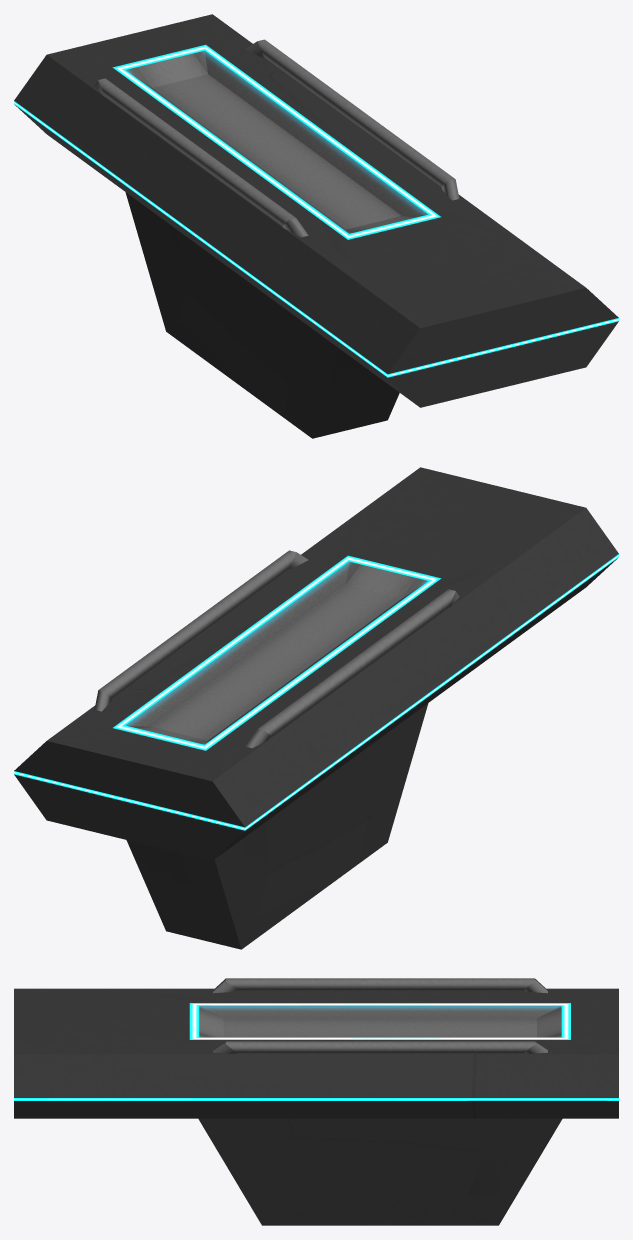
File: BowlingRack.fbx
3 views of the same model, one above another, from view 1: azimuth 30°, elevation 25°; view 2: azimuth 150°, elevation 25°; view 3: azimuth 270°, elevation 25° (orthographic). The views are drawn at different scales.
Parts seen in each view (by area): view 1: BowlingRack; view 2: BowlingRack; view 3: BowlingRack.
Part boxes in pixels (left/top/right/bottom): BowlingRack: left=14, top=14, right=618, bottom=438; BowlingRack: left=14, top=467, right=618, bottom=949; BowlingRack: left=14, top=978, right=618, bottom=1225.
Size of the model in its own units: 112 by 114 by 313.
Materials: 1 (1 with a texture image).
